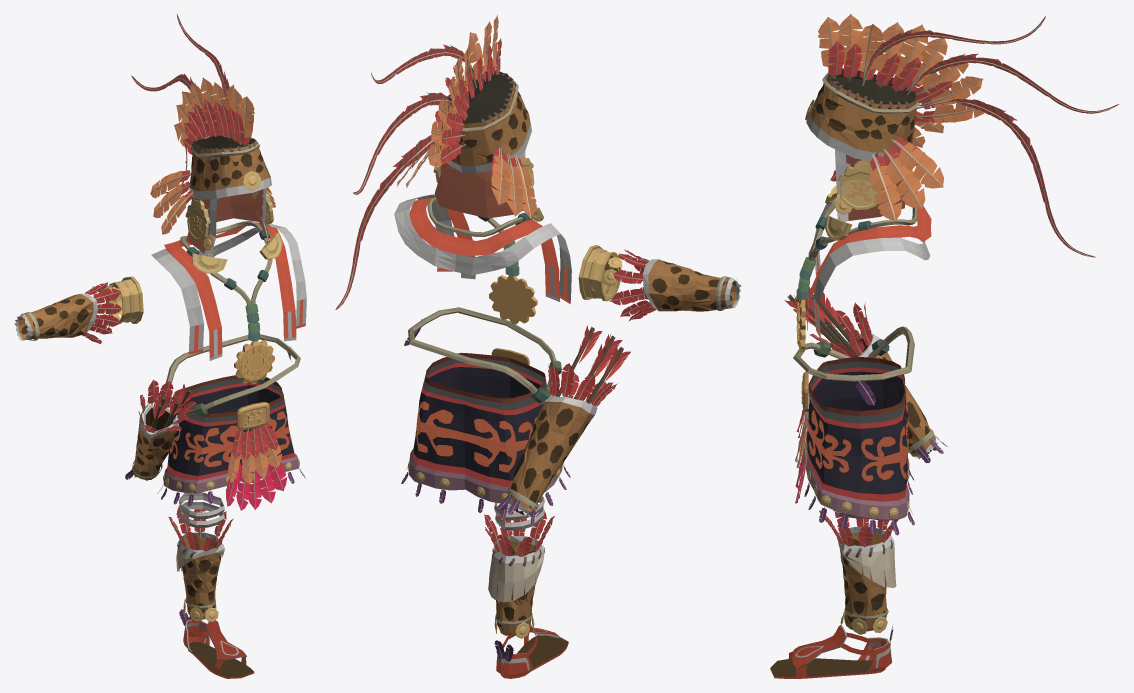
Rendered from aztecWarrior.glb.
The picture shows the model from 3 angles, left to right: view 1: azimuth 30°, elevation 25°; view 2: azimuth 150°, elevation 25°; view 3: azimuth 270°, elevation 25°; orthographic projection. The views are drawn at different scales.
Visible parts, largest first — view 1: aztecWarriorBody, aztecWarriorHat, aztecWarriorQuiver, aztecWarriorWristGuard, aztecWarriorLegGuard, aztecWarriorSandle, aztecWarriorArmBrace, aztecWarriorUpperLegStraps; view 2: aztecWarriorBody, aztecWarriorHat, aztecWarriorQuiver, aztecWarriorWristGuard, aztecWarriorLegGuard, aztecWarriorSandle, aztecWarriorArmBrace, aztecWarriorUpperLegStraps; view 3: aztecWarriorHat, aztecWarriorBody, aztecWarriorQuiver, aztecWarriorLegGuard, aztecWarriorSandle.
Boxes of the visible parts, <box> form: aztecWarriorBody: <box>151,221,306,510</box>; aztecWarriorHat: <box>131,14,282,273</box>; aztecWarriorQuiver: <box>125,334,300,480</box>; aztecWarriorWristGuard: <box>14,282,122,343</box>; aztecWarriorLegGuard: <box>168,505,233,622</box>; aztecWarriorSandle: <box>179,609,254,678</box>; aztecWarriorArmBrace: <box>97,276,143,324</box>; aztecWarriorUpperLegStraps: <box>179,492,224,527</box>; aztecWarriorBody: <box>394,194,571,517</box>; aztecWarriorHat: <box>335,14,543,309</box>; aztecWarriorQuiver: <box>404,307,630,526</box>; aztecWarriorWristGuard: <box>611,250,741,321</box>; aztecWarriorLegGuard: <box>484,511,554,638</box>; aztecWarriorSandle: <box>494,624,568,678</box>; aztecWarriorArmBrace: <box>578,245,625,301</box>; aztecWarriorUpperLegStraps: <box>494,496,544,530</box>; aztecWarriorHat: <box>805,14,1118,257</box>; aztecWarriorBody: <box>795,190,931,535</box>; aztecWarriorQuiver: <box>784,287,947,463</box>; aztecWarriorLegGuard: <box>819,510,897,634</box>; aztecWarriorSandle: <box>770,624,893,678</box>.
Size of the model in its own units: 1.15 by 2.22 by 1.03.
